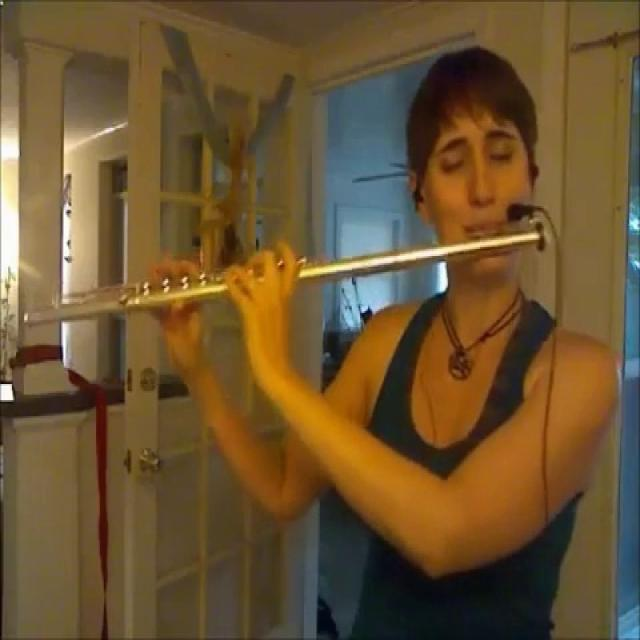Flute: (12, 203, 552, 342)
